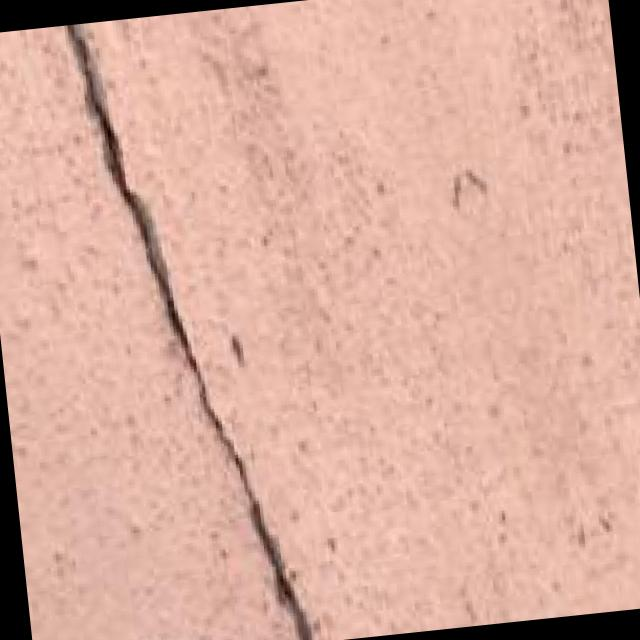crack: (32, 3, 336, 640)
